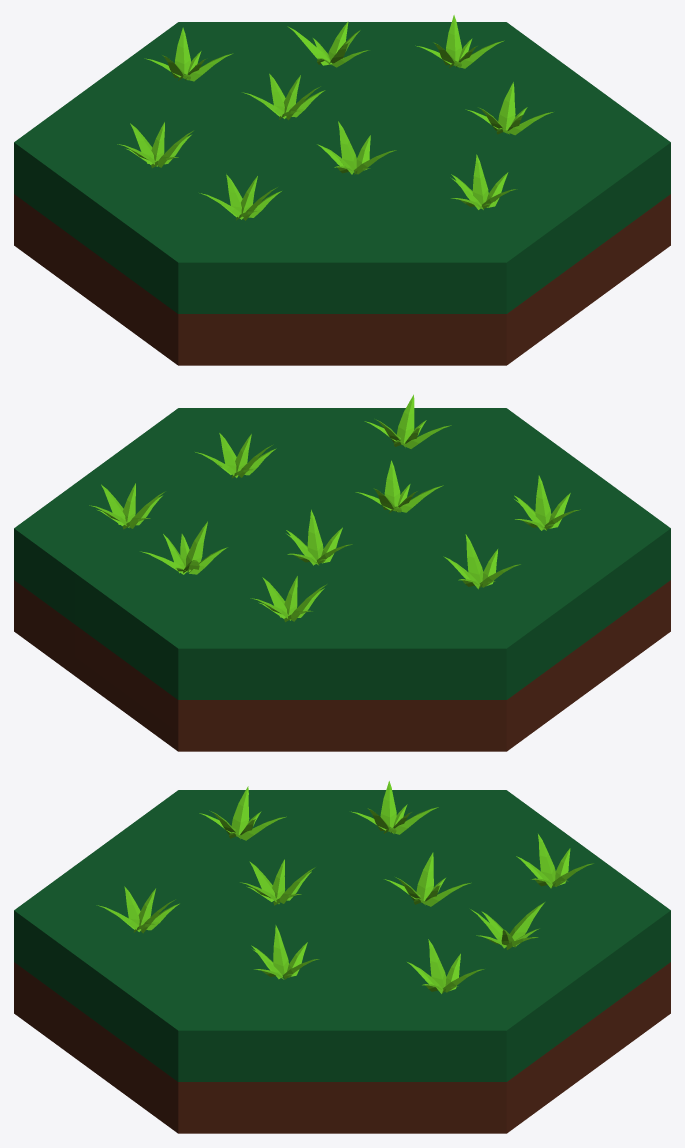
File: SM_Grass.FBX
3 views of the same model, one above another, from view 1: azimuth 30°, elevation 25°; view 2: azimuth 150°, elevation 25°; view 3: azimuth 270°, elevation 25° (orthographic).
Visible parts, largest first — view 1: SM_Grass; view 2: SM_Grass; view 3: SM_Grass.
Boxes of the visible parts, x1,y1,x2,y2 form: SM_Grass: [14, 15, 670, 365]; SM_Grass: [14, 394, 670, 751]; SM_Grass: [14, 781, 670, 1133].
Size of the model in its own units: 100 by 115 by 27.1.
